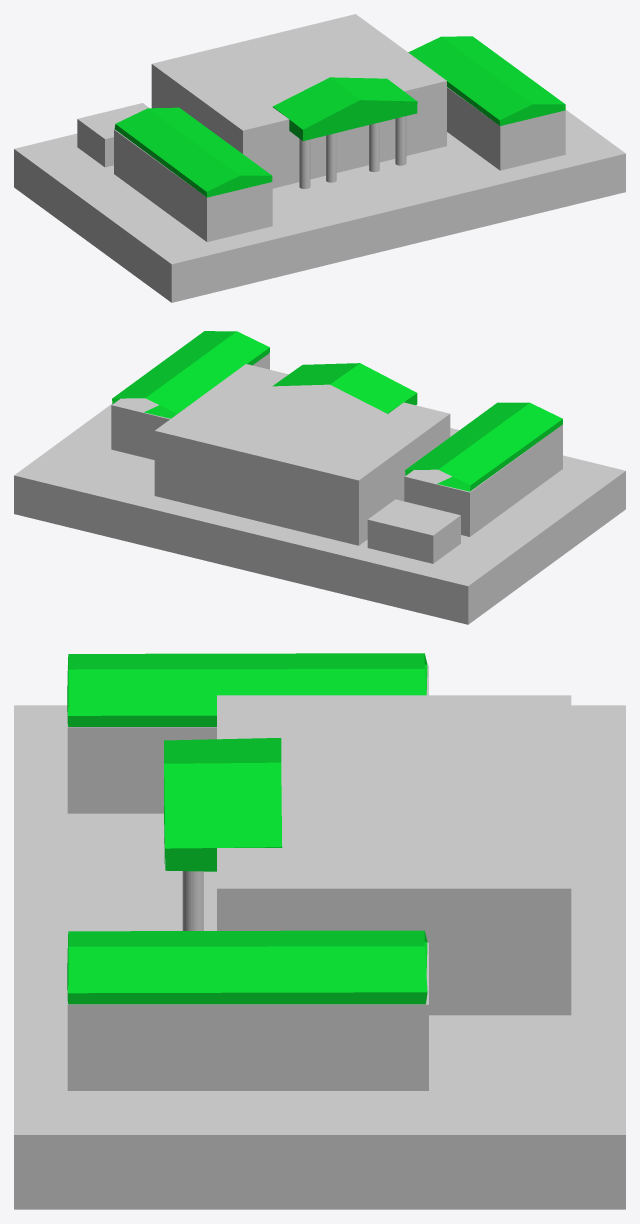
Rendered from och-building.glb.
The picture shows the model from 3 angles, top to bottom: view 1: azimuth 30°, elevation 25°; view 2: azimuth 150°, elevation 25°; view 3: azimuth 270°, elevation 25°; orthographic projection. The views are drawn at different scales.
Visible parts, largest first — view 1: base, main, side buildings, roofs, roofs.001, posts; view 2: base, main, side buildings, roofs, roofs.001; view 3: base, main, roofs, side buildings, roofs.001, posts.
Boxes of the visible parts, <box> form: base: <box>14,110,625,302</box>; main: <box>151,14,446,188</box>; side buildings: <box>77,87,565,252</box>; roofs: <box>114,36,565,197</box>; roofs.001: <box>272,77,417,141</box>; posts: <box>299,116,406,188</box>; base: <box>14,404,625,624</box>; main: <box>154,364,450,545</box>; side buildings: <box>111,353,576,563</box>; roofs: <box>112,331,562,491</box>; roofs.001: <box>272,363,417,413</box>; base: <box>14,705,625,1209</box>; main: <box>217,695,571,1015</box>; roofs: <box>67,653,427,1004</box>; side buildings: <box>14,665,428,1090</box>; roofs.001: <box>164,738,282,871</box>; posts: <box>182,871,203,930</box>.
Size of the model in its own units: 10.59 by 2.67 by 6.38.
